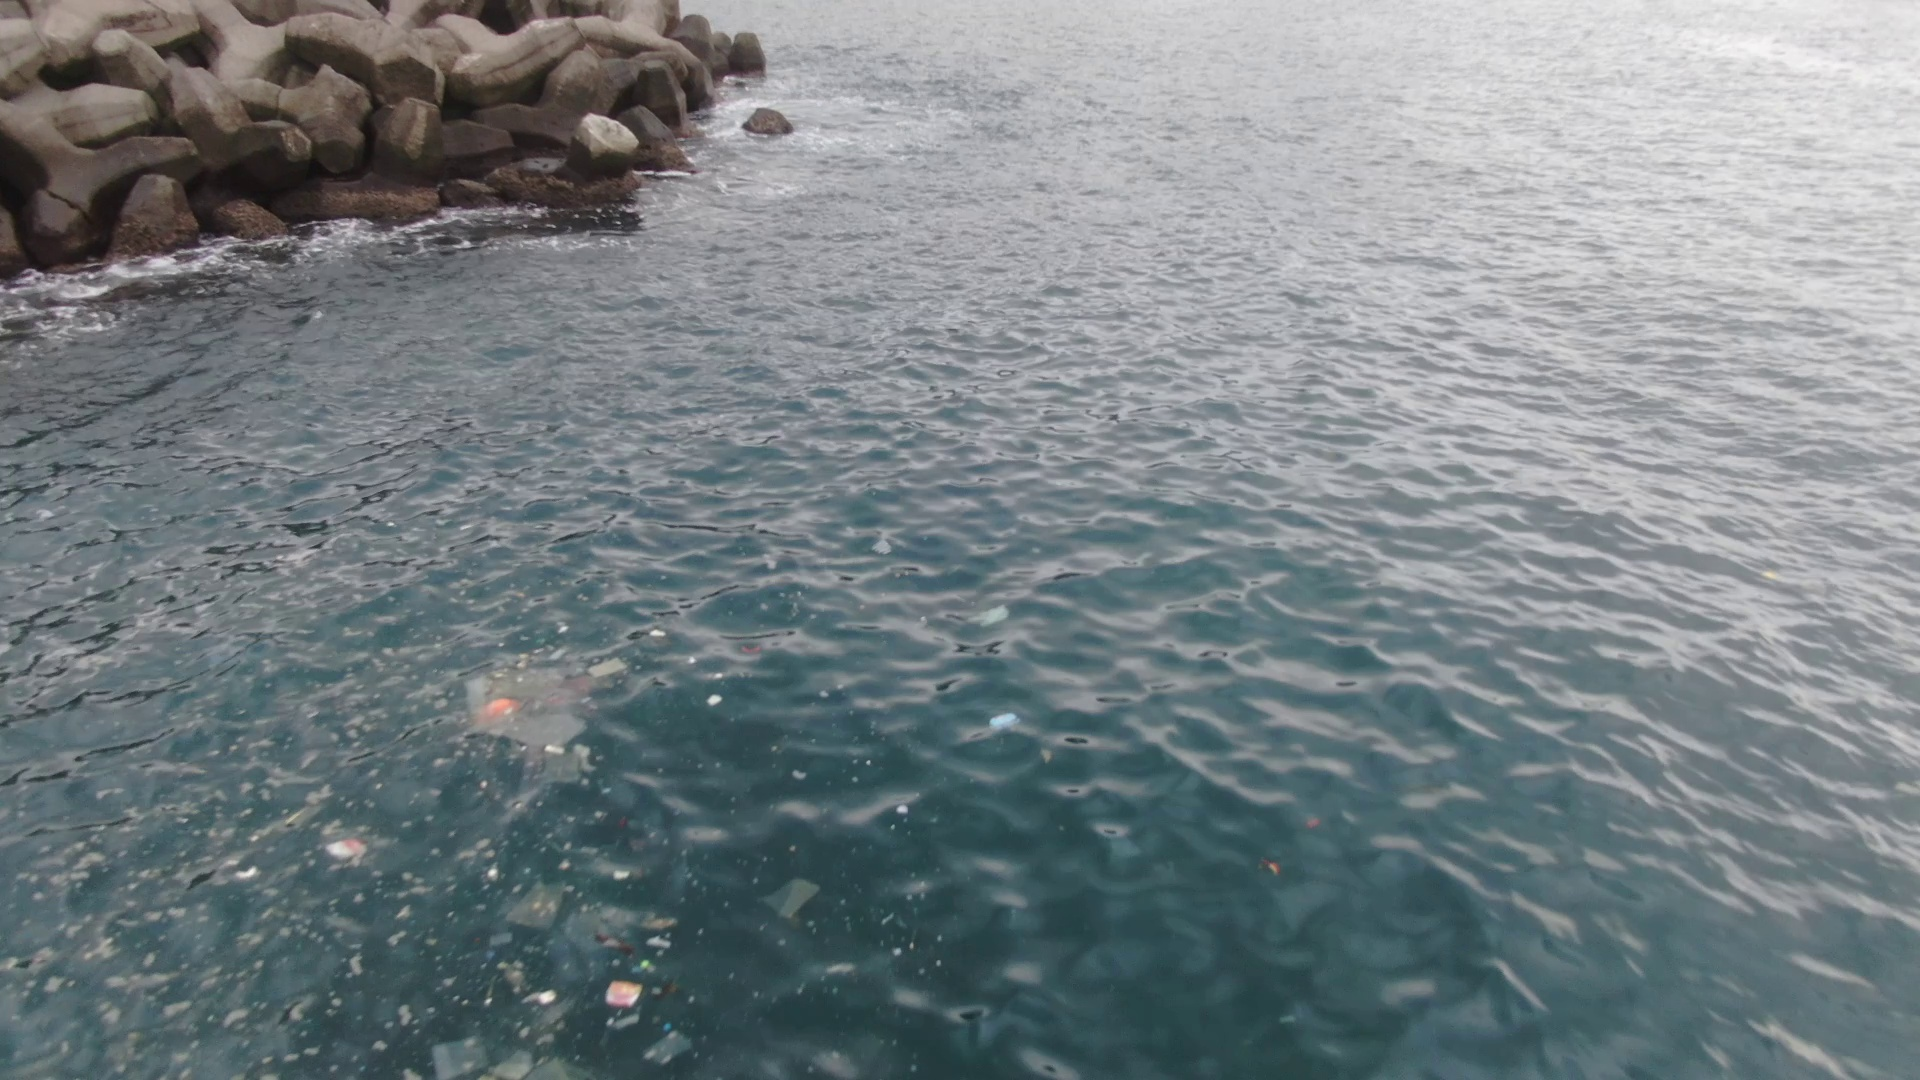garbage: (320, 617, 828, 1080)
